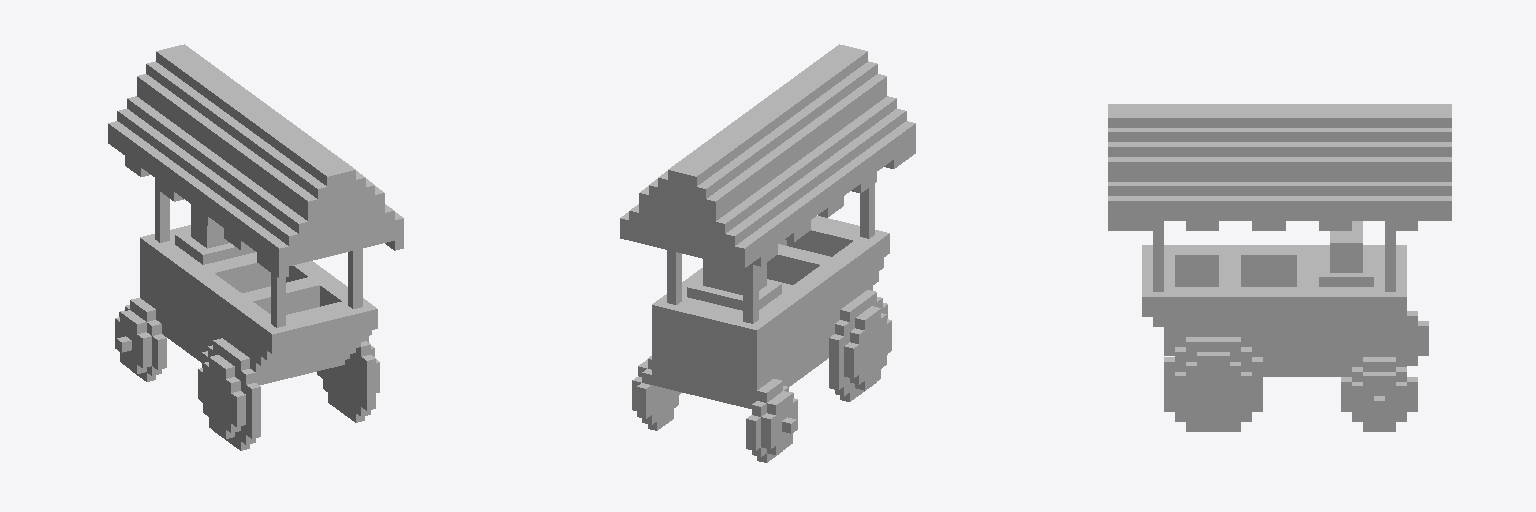
The model's file is Cart.obj.
3 views of the same model, side by side, from view 1: azimuth 30°, elevation 25°; view 2: azimuth 150°, elevation 25°; view 3: azimuth 270°, elevation 25° (orthographic).
Parts seen in each view (by area): view 1: Cart; view 2: Cart; view 3: Cart.
Boxes of the visible parts, box(x1,y1,x2,y2) form: Cart: box(108, 44, 403, 450); Cart: box(620, 44, 915, 462); Cart: box(1108, 104, 1451, 431).
Size of the model in its own units: 17 by 29 by 31.